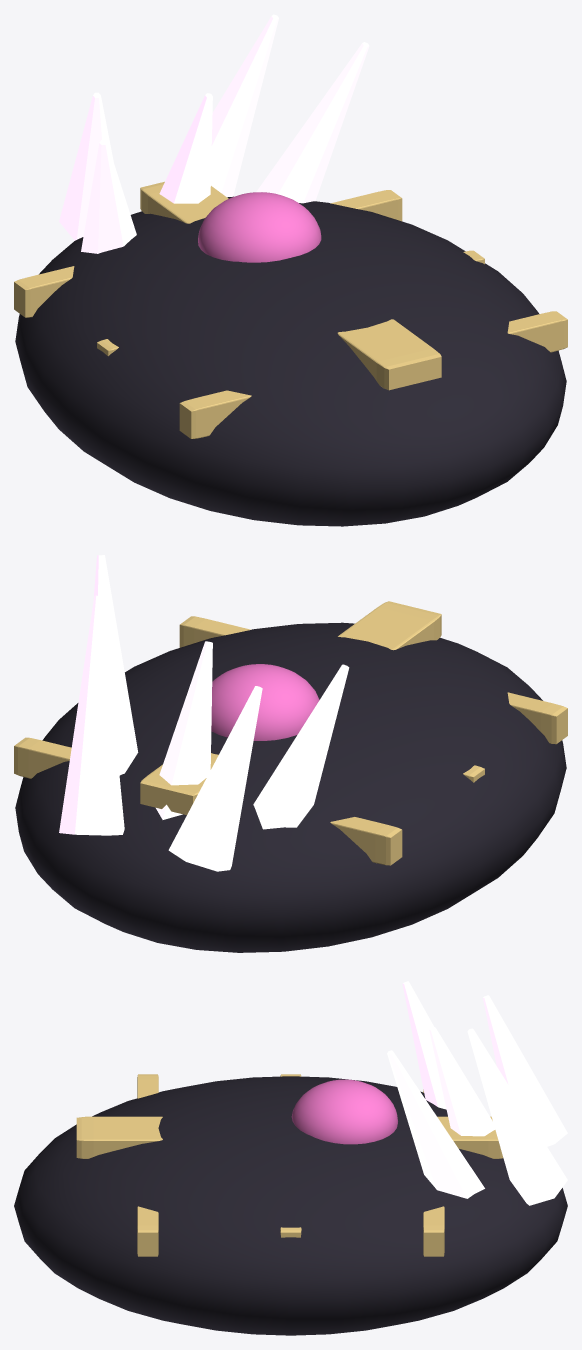
The model's file is SM_Keeper_Wepwawet_Body.fbx.
3 views of the same model, one above another, from view 1: azimuth 30°, elevation 25°; view 2: azimuth 150°, elevation 25°; view 3: azimuth 270°, elevation 25° (orthographic). The views are drawn at different scales.
Visible parts, largest first — view 1: SM_Keeper_Wepwawet_Body; view 2: SM_Keeper_Wepwawet_Body; view 3: SM_Keeper_Wepwawet_Body.
Boxes of the visible parts, left/top/right/bottom form: SM_Keeper_Wepwawet_Body: left=14, top=14, right=567, bottom=526; SM_Keeper_Wepwawet_Body: left=14, top=555, right=567, bottom=952; SM_Keeper_Wepwawet_Body: left=14, top=981, right=567, bottom=1335.
Size of the model in its own units: 2.5 by 1.87 by 3.1.
